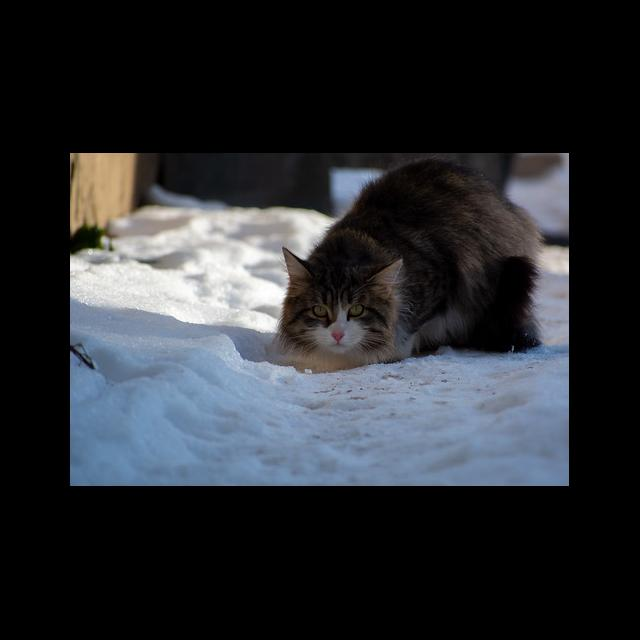animals: (281, 159, 539, 367)
